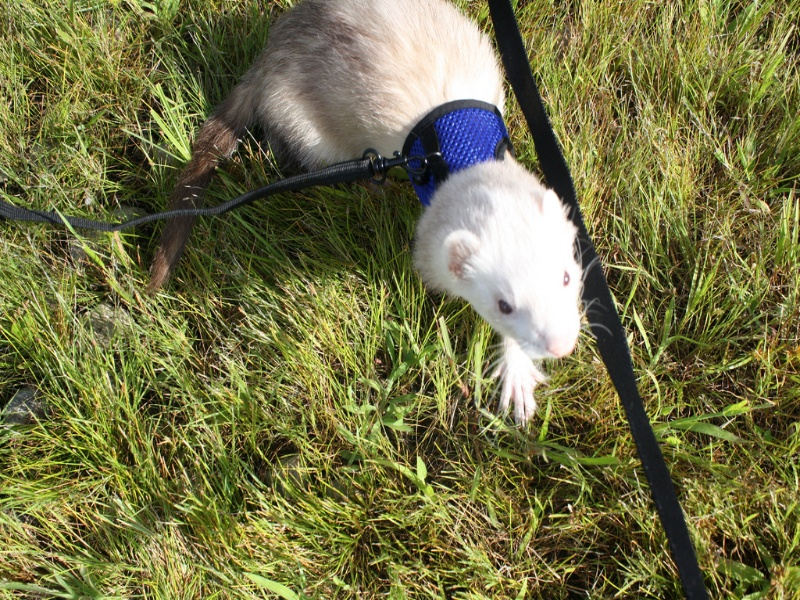minkish: (137, 1, 597, 441)
